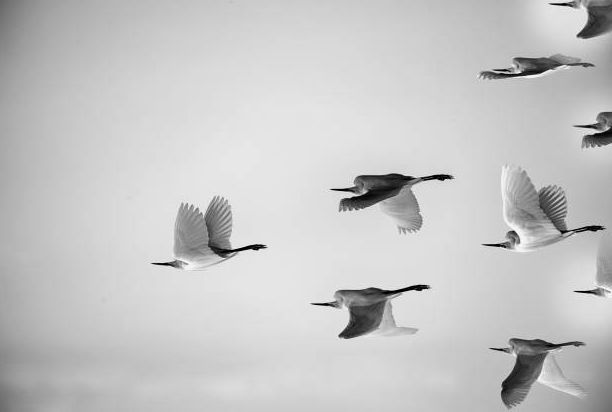Bird: (476, 161, 607, 252), (148, 192, 270, 271), (326, 168, 455, 235), (488, 334, 591, 410), (305, 282, 432, 340), (477, 49, 595, 83), (545, 1, 612, 41), (572, 239, 612, 298), (571, 109, 611, 151)
